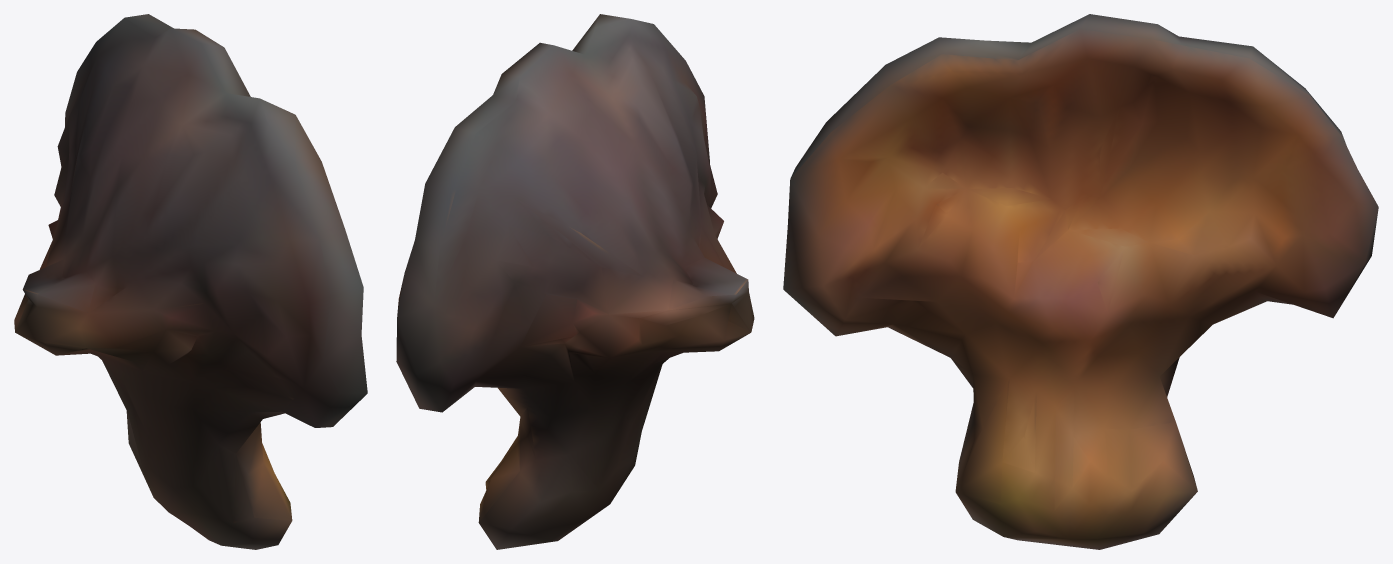
Rendered from hollowcap.glb.
The picture shows the model from 3 angles, left to right: view 1: azimuth 30°, elevation 25°; view 2: azimuth 150°, elevation 25°; view 3: azimuth 270°, elevation 25°; orthographic projection. The views are drawn at different scales.
Visible parts, largest first — view 1: model; view 2: model; view 3: model.
Boxes of the visible parts, x1,y1,x2,y2 form: model: (14,14,367,549); model: (396,14,754,549); model: (783,14,1378,549).
Size of the model in its own units: 0.2027 by 0.3859 by 0.3998.
Materials: 1 (1 with a texture image).
